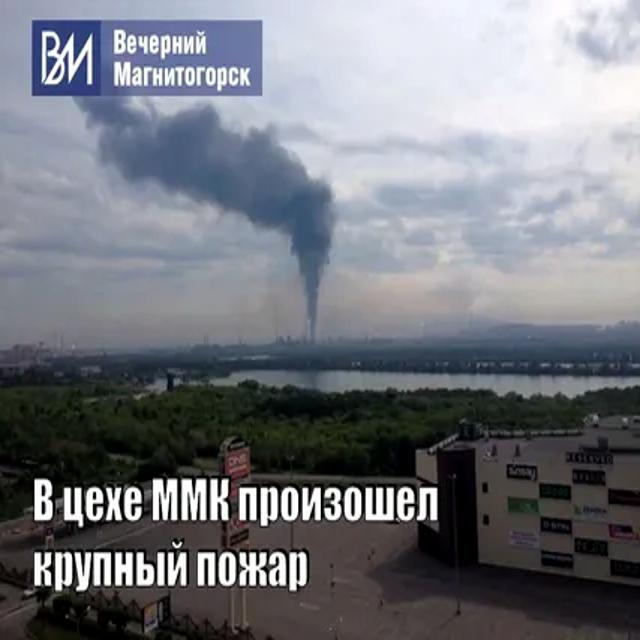Smoke: (74, 100, 334, 349)
